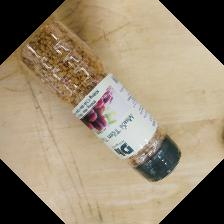TayNinh_green: (16, 13, 182, 184)
